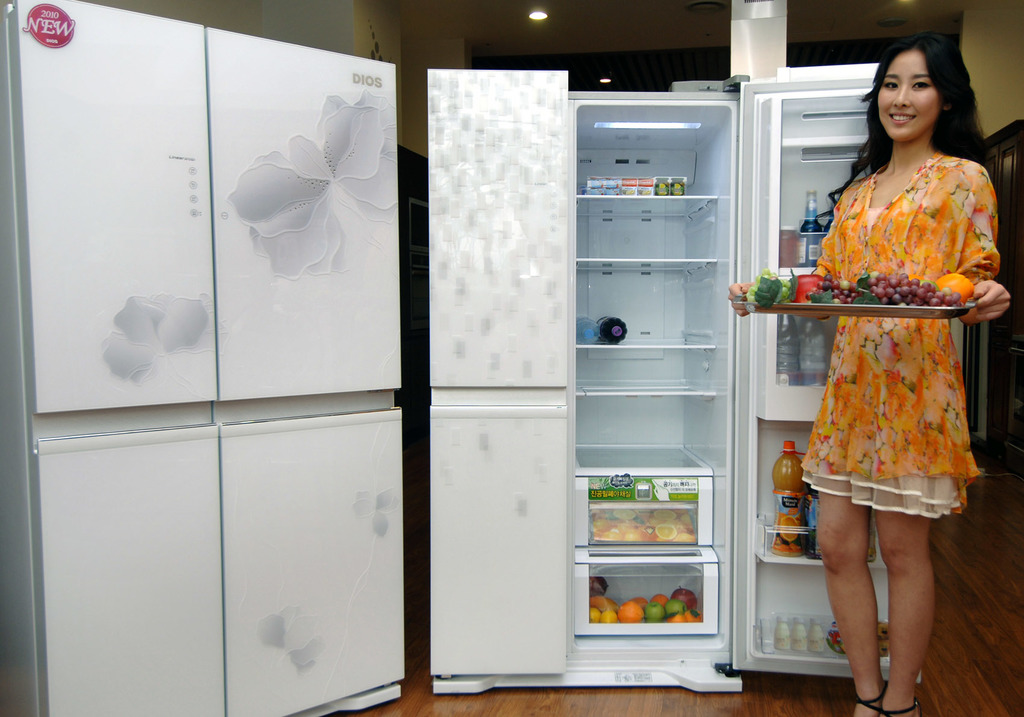handle: (35, 394, 222, 443), (219, 390, 397, 432), (429, 375, 573, 425)
refrigerator door: (26, 5, 210, 412), (214, 30, 398, 390), (40, 429, 223, 707), (230, 409, 401, 684), (428, 67, 567, 399), (431, 407, 564, 672)
